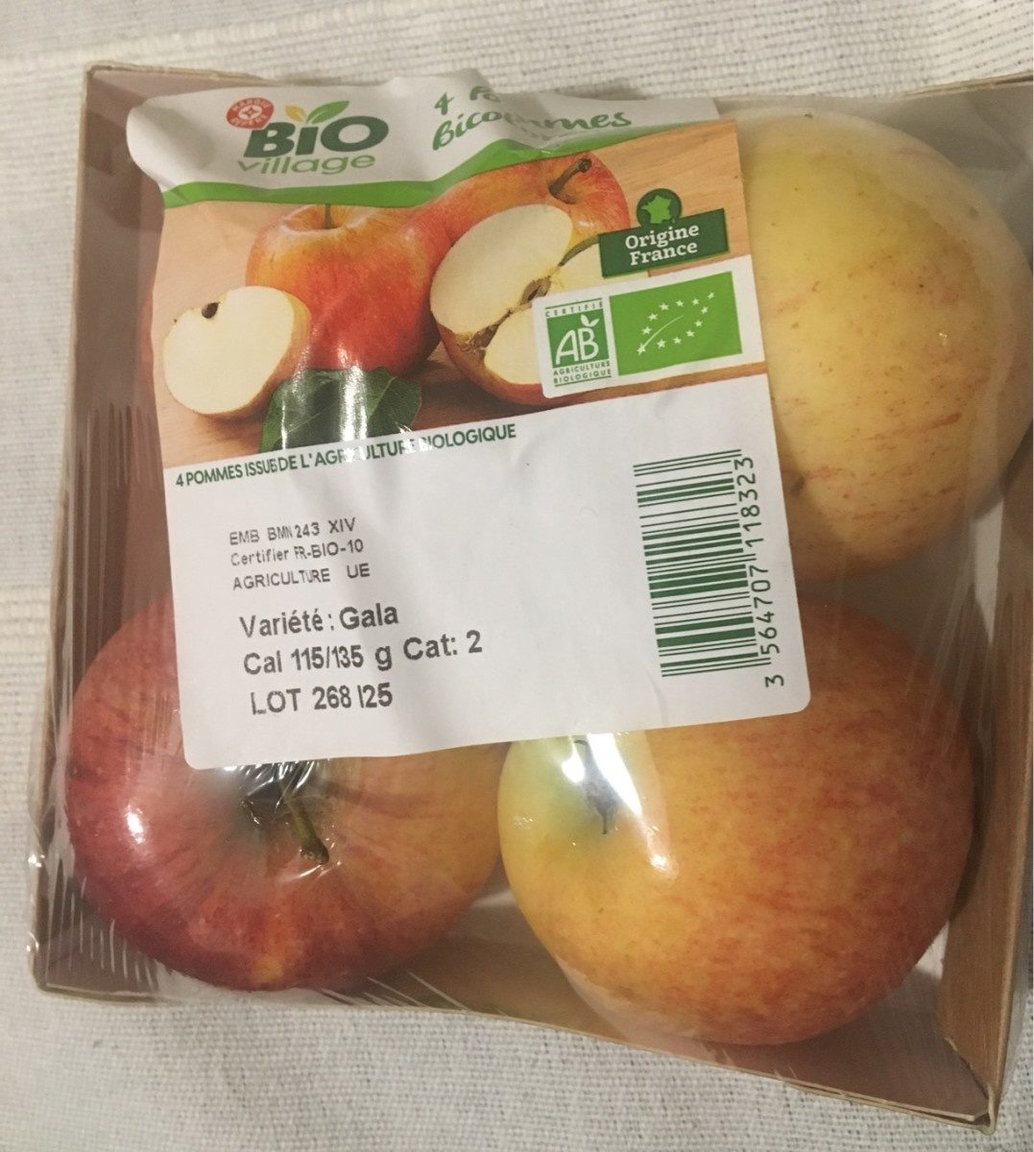Pommes Gala: (52, 58, 982, 1094)
